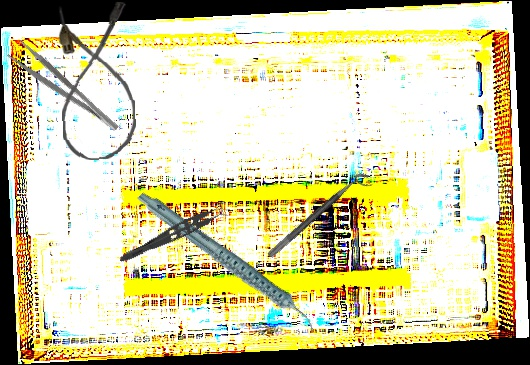Cannula: (56, 1, 138, 162)
Dressing Forceps: (6, 37, 121, 143)
Fixation Ring: (266, 168, 376, 267)
Handpiece: (135, 162, 318, 364)
Tissue Forceps: (117, 199, 232, 273)
